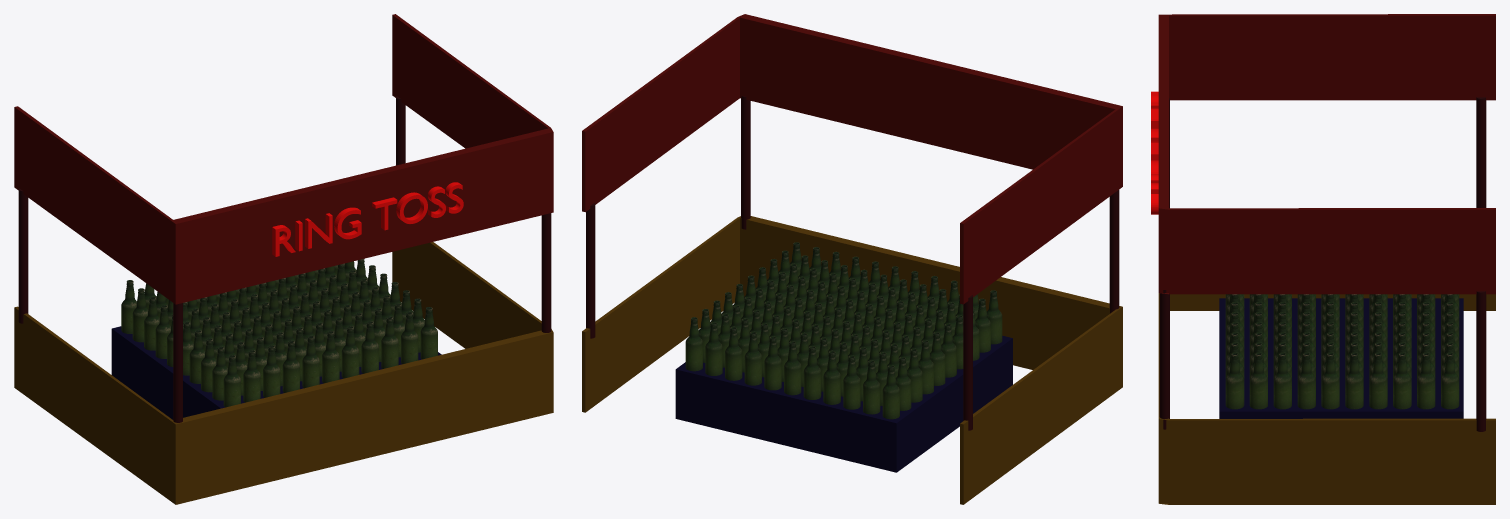
File: ringtoss.fbx
The picture shows the model from 3 angles, left to right: view 1: azimuth 30°, elevation 25°; view 2: azimuth 150°, elevation 25°; view 3: azimuth 270°, elevation 25°; orthographic projection. The views are drawn at different scales.
Parts seen in each view (by area): view 1: Plane.001, Plane.002, bottle01a, Cube, Text, Cylinder.003, Cylinder.001, Cylinder, Cylinder.002; view 2: Plane.002, Plane.001, bottle01a, Cube, Cylinder, Cylinder.002, Cylinder.001, Cylinder.003; view 3: Plane.002, Plane.001, bottle01a, Cube, Cylinder.002, Cylinder.001, Cylinder.003, Text.
Boxes of the visible parts, x1=… form: Plane.001: x1=14, y1=242, x2=553, y2=504; Plane.002: x1=14, y1=14, x2=553, y2=304; bottle01a: x1=121, y1=258, x2=437, y2=407; Cube: x1=111, y1=326, x2=441, y2=419; Text: x1=272, y1=182, x2=463, y2=256; Cylinder.003: x1=18, y1=188, x2=28, y2=323; Cylinder.001: x1=541, y1=213, x2=551, y2=332; Cylinder: x1=173, y1=303, x2=182, y2=422; Cylinder.002: x1=396, y1=96, x2=405, y2=165; Plane.002: x1=582, y1=14, x2=1122, y2=304; Plane.001: x1=582, y1=216, x2=1122, y2=504; bottle01a: x1=685, y1=242, x2=1002, y2=419; Cube: x1=675, y1=335, x2=1012, y2=472; Cylinder: x1=1109, y1=190, x2=1119, y2=313; Cylinder.002: x1=586, y1=203, x2=595, y2=338; Cylinder.001: x1=741, y1=96, x2=750, y2=229; Cylinder.003: x1=963, y1=295, x2=972, y2=430; Plane.002: x1=1158, y1=14, x2=1495, y2=294; Plane.001: x1=1158, y1=293, x2=1495, y2=504; bottle01a: x1=1225, y1=294, x2=1459, y2=409; Cube: x1=1219, y1=298, x2=1463, y2=418; Cylinder.002: x1=1476, y1=291, x2=1486, y2=431; Cylinder.001: x1=1159, y1=290, x2=1169, y2=429; Cylinder.003: x1=1476, y1=97, x2=1486, y2=207; Text: x1=1151, y1=91, x2=1158, y2=214.
Size of the model in its own units: 1002 by 698 by 738.
